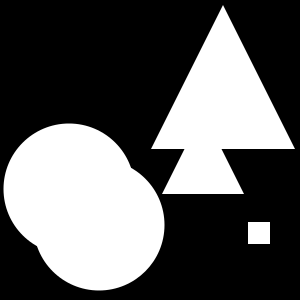circle: (248, 222, 270, 244)
rectangle: (4, 124, 134, 255), (34, 160, 164, 290)
triangle: (151, 5, 295, 149), (162, 112, 244, 194)
